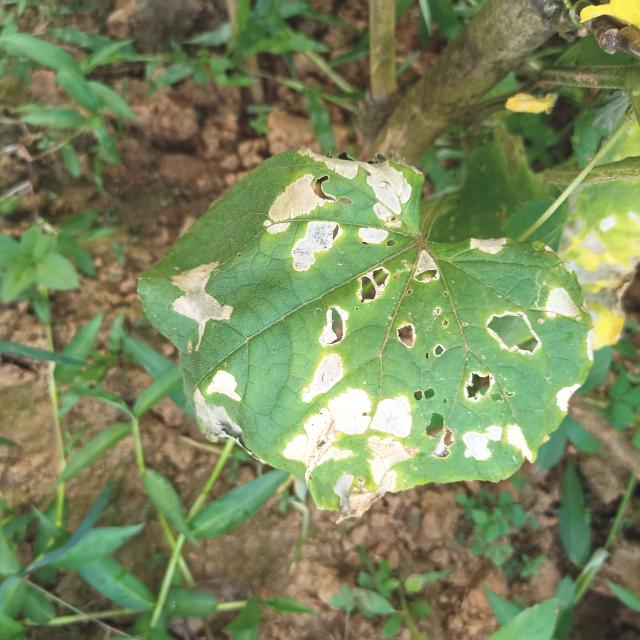disease_cucumber: (163, 148, 568, 504)
